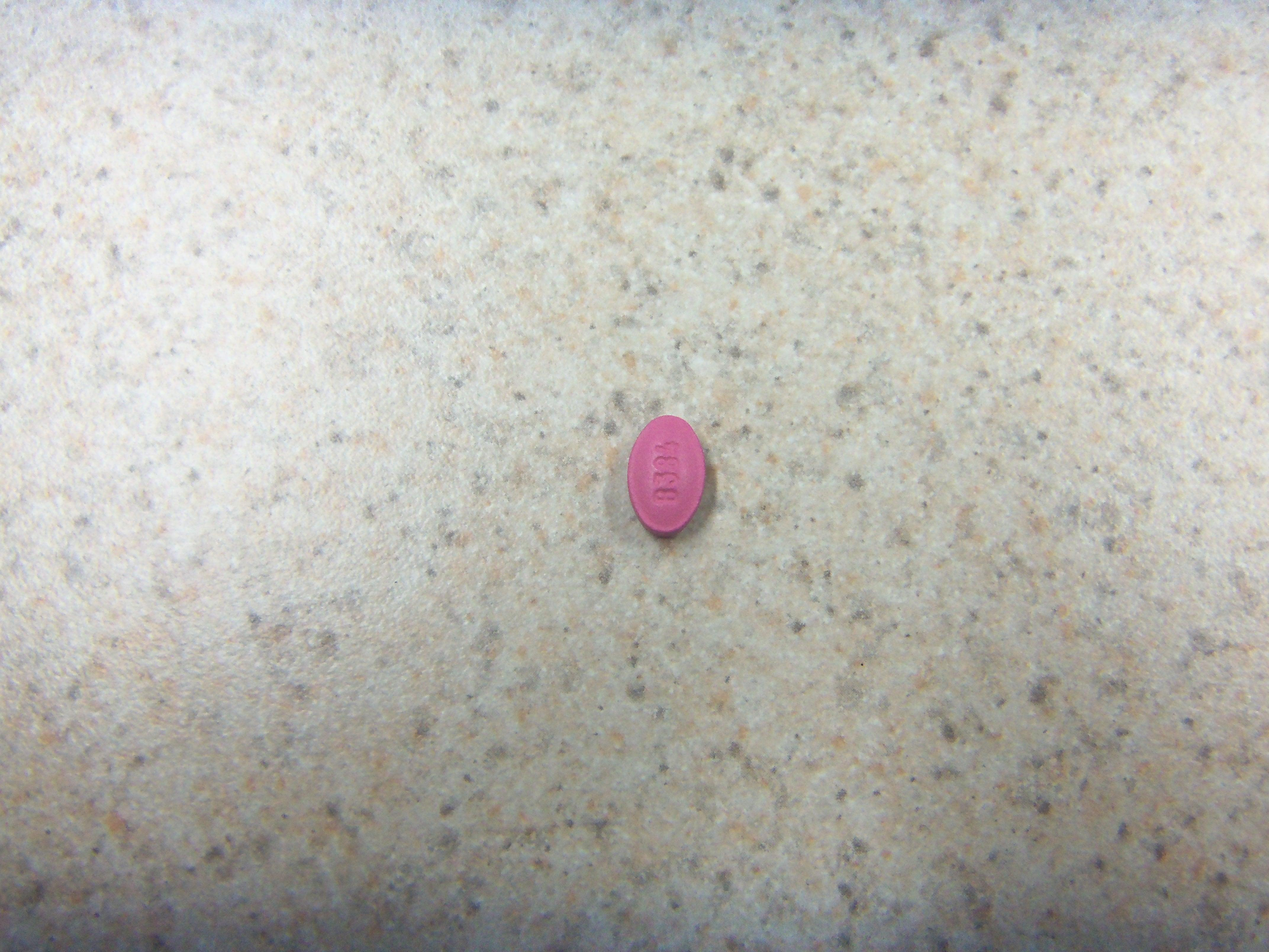Pill: (621, 406, 712, 542)
